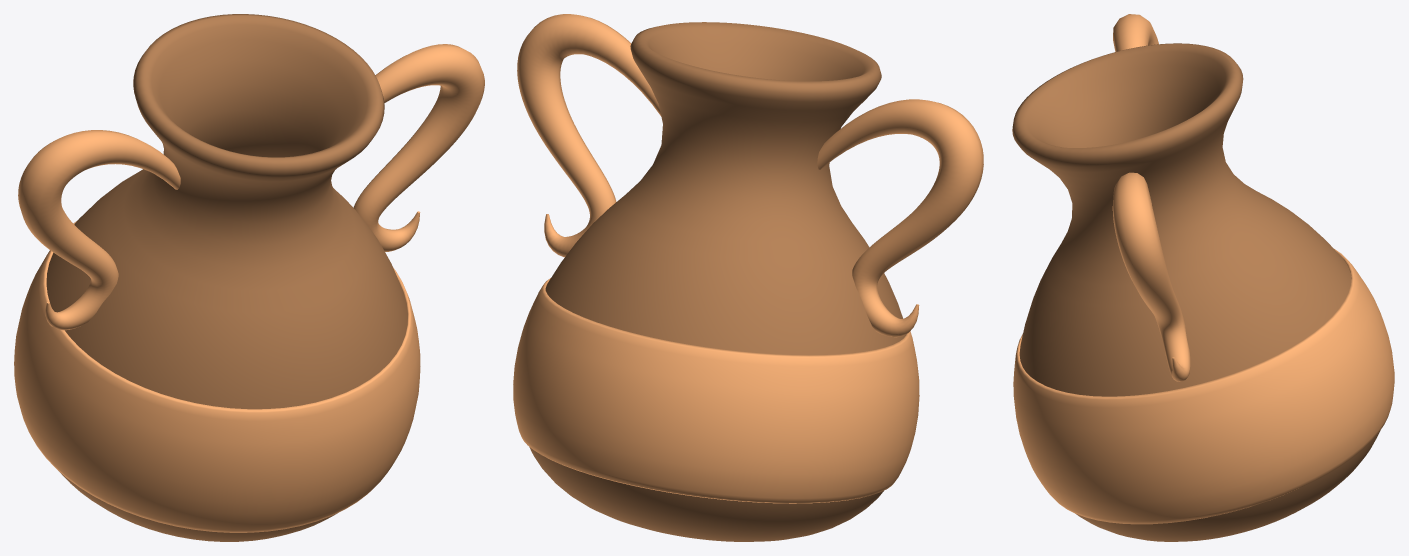
Rendered from Gucci.fbx.
3 views of the same model, side by side, from view 1: azimuth 30°, elevation 25°; view 2: azimuth 150°, elevation 25°; view 3: azimuth 270°, elevation 25° (orthographic). The views are drawn at different scales.
Parts seen in each view (by area): view 1: Sphere.022, Sphere.023, NurbsPath.001; view 2: Sphere.022, Sphere.023, NurbsPath.001; view 3: Sphere.022, Sphere.023, NurbsPath.001.
Part boxes in pixels (box(x1,y1,x2,y2)): Sphere.022: box(46, 14, 407, 541); Sphere.023: box(14, 220, 420, 532); NurbsPath.001: box(18, 44, 484, 330); Sphere.022: box(529, 22, 906, 541); Sphere.023: box(513, 278, 919, 503); NurbsPath.001: box(517, 14, 983, 337); Sphere.022: box(1012, 43, 1380, 541); Sphere.023: box(1013, 249, 1394, 524); NurbsPath.001: box(1112, 14, 1190, 381).
Bounding box in the file's own units: 524 × 511 × 401.
